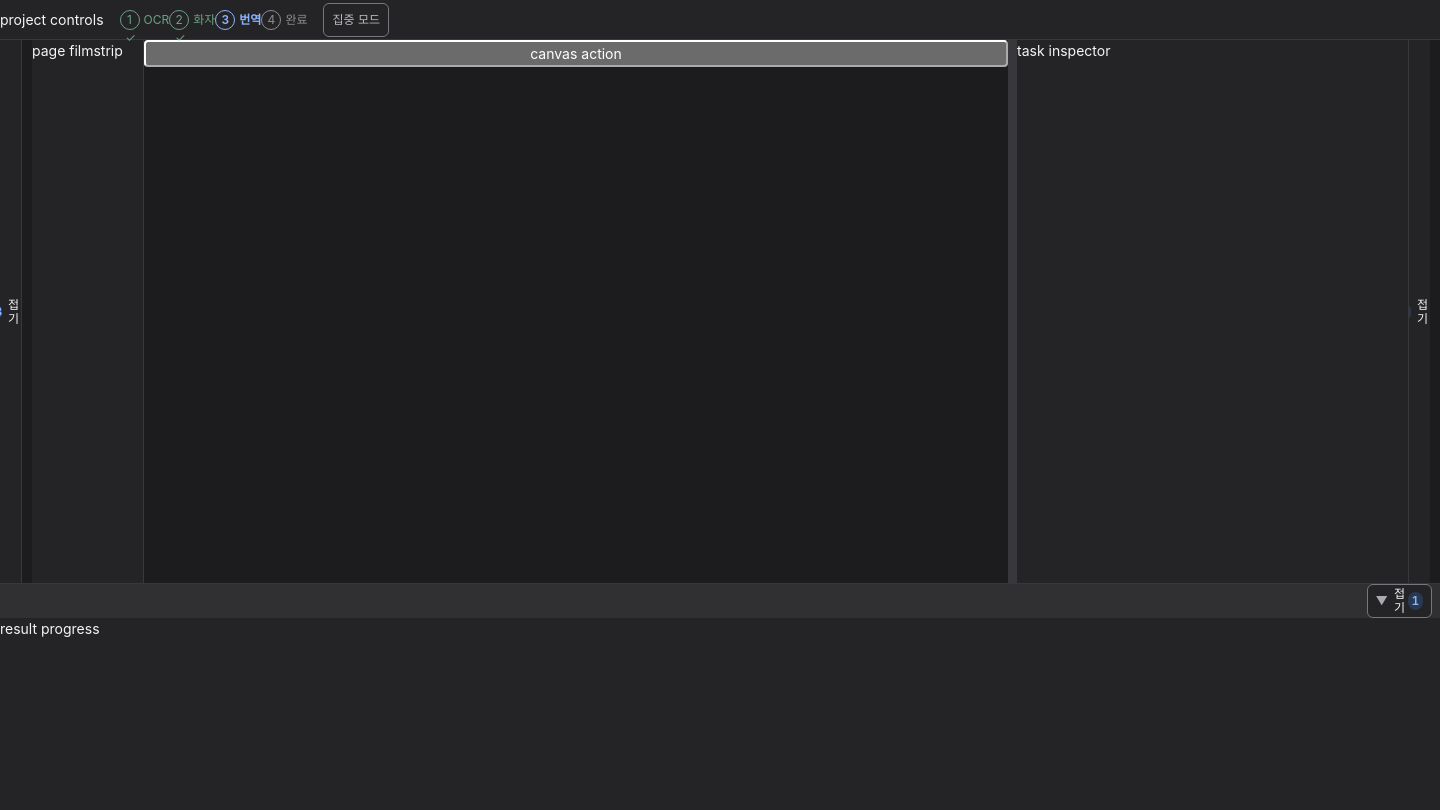
Test case: FocusDeckShell › keeps translation editing beside the image in focus mode
Click the button with aria-label "집중 모드 켜기": (356, 20) [324,2,389,36]
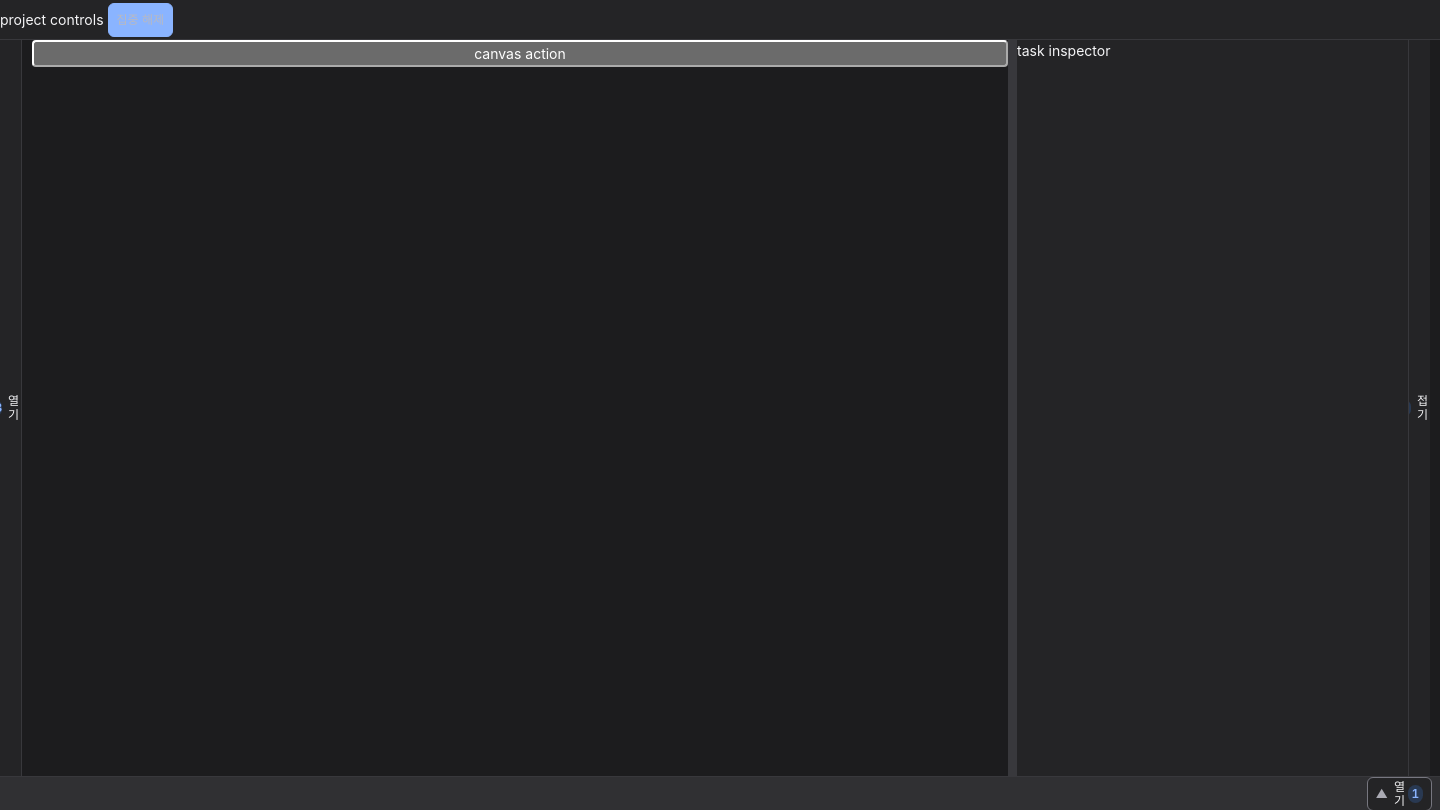
Expected: the text "task inspector" is shown, [1017,42,1110,59]
Expected: the text "page filmstrip" is gone
Expected: the text "result progress" is gone
